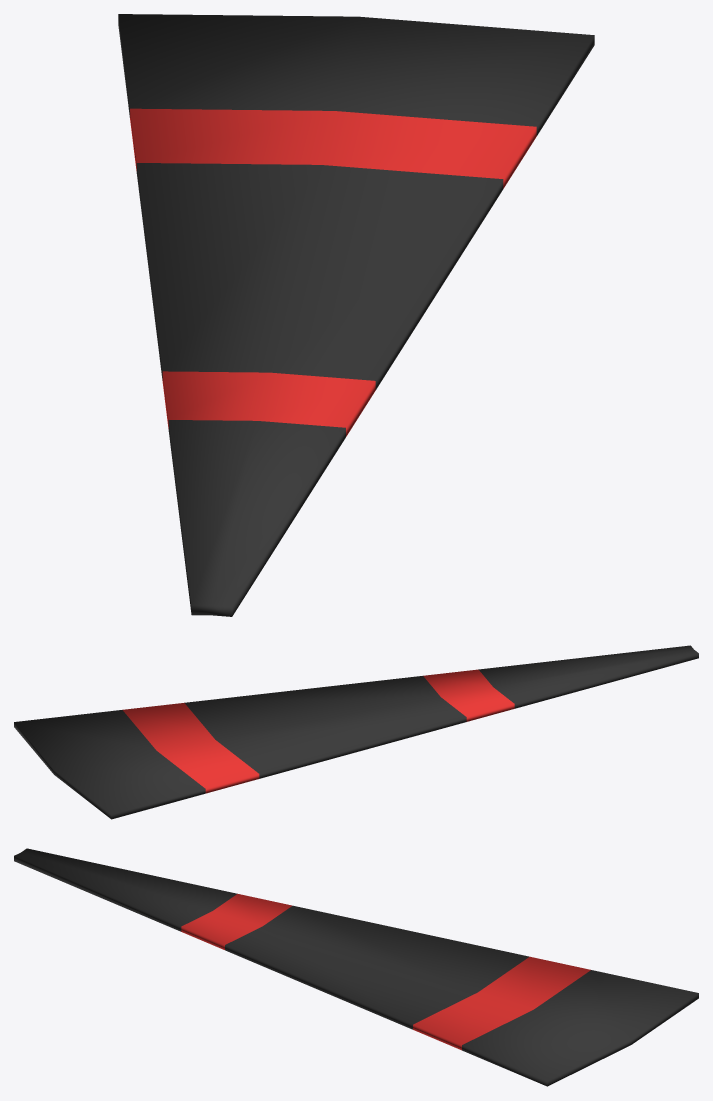
File: Kawalek.fbx
The picture shows the model from 3 angles, top to bottom: view 1: azimuth 30°, elevation 25°; view 2: azimuth 150°, elevation 25°; view 3: azimuth 270°, elevation 25°; orthographic projection. The views are drawn at different scales.
Visible parts, largest first — view 1: Circle.002; view 2: Circle.002; view 3: Circle.002.
Part boxes in pixels (bbox=[...]): Circle.002: bbox=[118, 14, 594, 616]; Circle.002: bbox=[14, 645, 698, 819]; Circle.002: bbox=[14, 848, 698, 1086].
Size of the model in its own units: 139 by 1.48 by 173.
